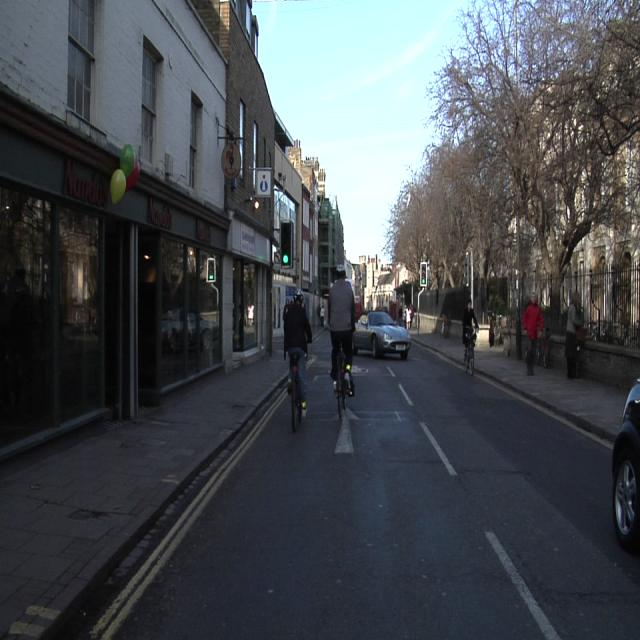Bicyclist: (329, 266, 356, 412), (284, 293, 311, 430), (462, 300, 477, 374)
Building: (2, 0, 344, 460)
Car: (614, 380, 639, 544), (355, 312, 410, 359)
Road: (112, 344, 636, 639)
Tree: (394, 1, 638, 285)
person: (523, 293, 543, 375), (566, 294, 582, 377), (462, 300, 477, 374)
